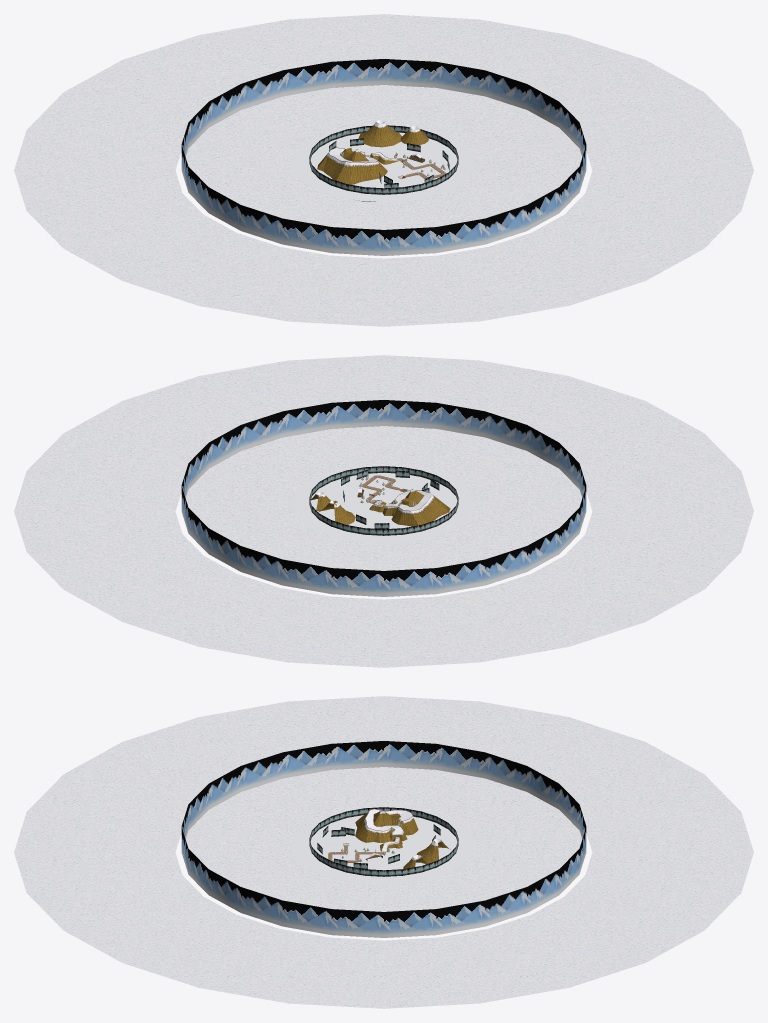
The picture shows the model from 3 angles, top to bottom: view 1: azimuth 30°, elevation 25°; view 2: azimuth 150°, elevation 25°; view 3: azimuth 270°, elevation 25°; orthographic projection.
Parts seen in each view (by area): view 1: course_model_g_370959-Abgrundsolidfall, course_model_g_370821-BergCorner, course_model_Main-Schneesolidfall, course_model_g_370930-BergeWall, course_model_g_370925-BaumCorner; view 2: course_model_g_370959-Abgrundsolidfall, course_model_g_370821-BergCorner, course_model_Main-Schneesolidfall, course_model_g_370925-BaumCorner, course_model_g_370930-BergeWall; view 3: course_model_g_370959-Abgrundsolidfall, course_model_g_370821-BergCorner, course_model_Main-Schneesolidfall, course_model_g_370925-BaumCorner, course_model_g_370930-BergeWall, course_model_g_370931-SchneeStrasse.
Part boxes in pixels (x1,y1,x2,y2): course_model_g_370959-Abgrundsolidfall: (14,14,753,326); course_model_g_370821-BergCorner: (181,59,586,255); course_model_Main-Schneesolidfall: (292,124,475,202); course_model_g_370930-BergeWall: (317,124,428,184); course_model_g_370925-BaumCorner: (309,125,458,194); course_model_g_370959-Abgrundsolidfall: (14,355,753,667); course_model_g_370821-BergCorner: (181,400,586,596); course_model_Main-Schneesolidfall: (292,465,475,543); course_model_g_370925-BaumCorner: (309,466,458,535); course_model_g_370930-BergeWall: (310,489,450,526); course_model_g_370959-Abgrundsolidfall: (14,696,753,1008); course_model_g_370821-BergCorner: (181,741,586,937); course_model_Main-Schneesolidfall: (292,806,475,884); course_model_g_370925-BaumCorner: (309,807,458,876); course_model_g_370930-BergeWall: (355,810,450,874); course_model_g_370931-SchneeStrasse: (365,809,412,851).
Size of the model in its own units: 523260 by 23059 by 523260.
Materials: 33 (33 with a texture image).
